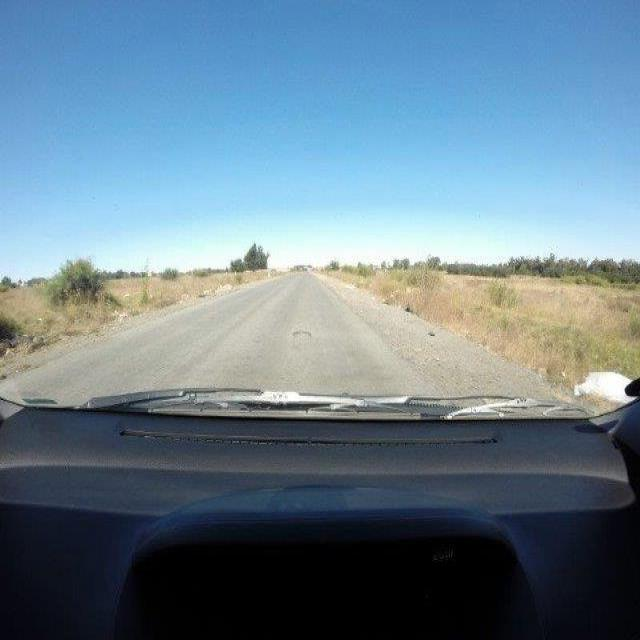lubang: (287, 324, 316, 340)
